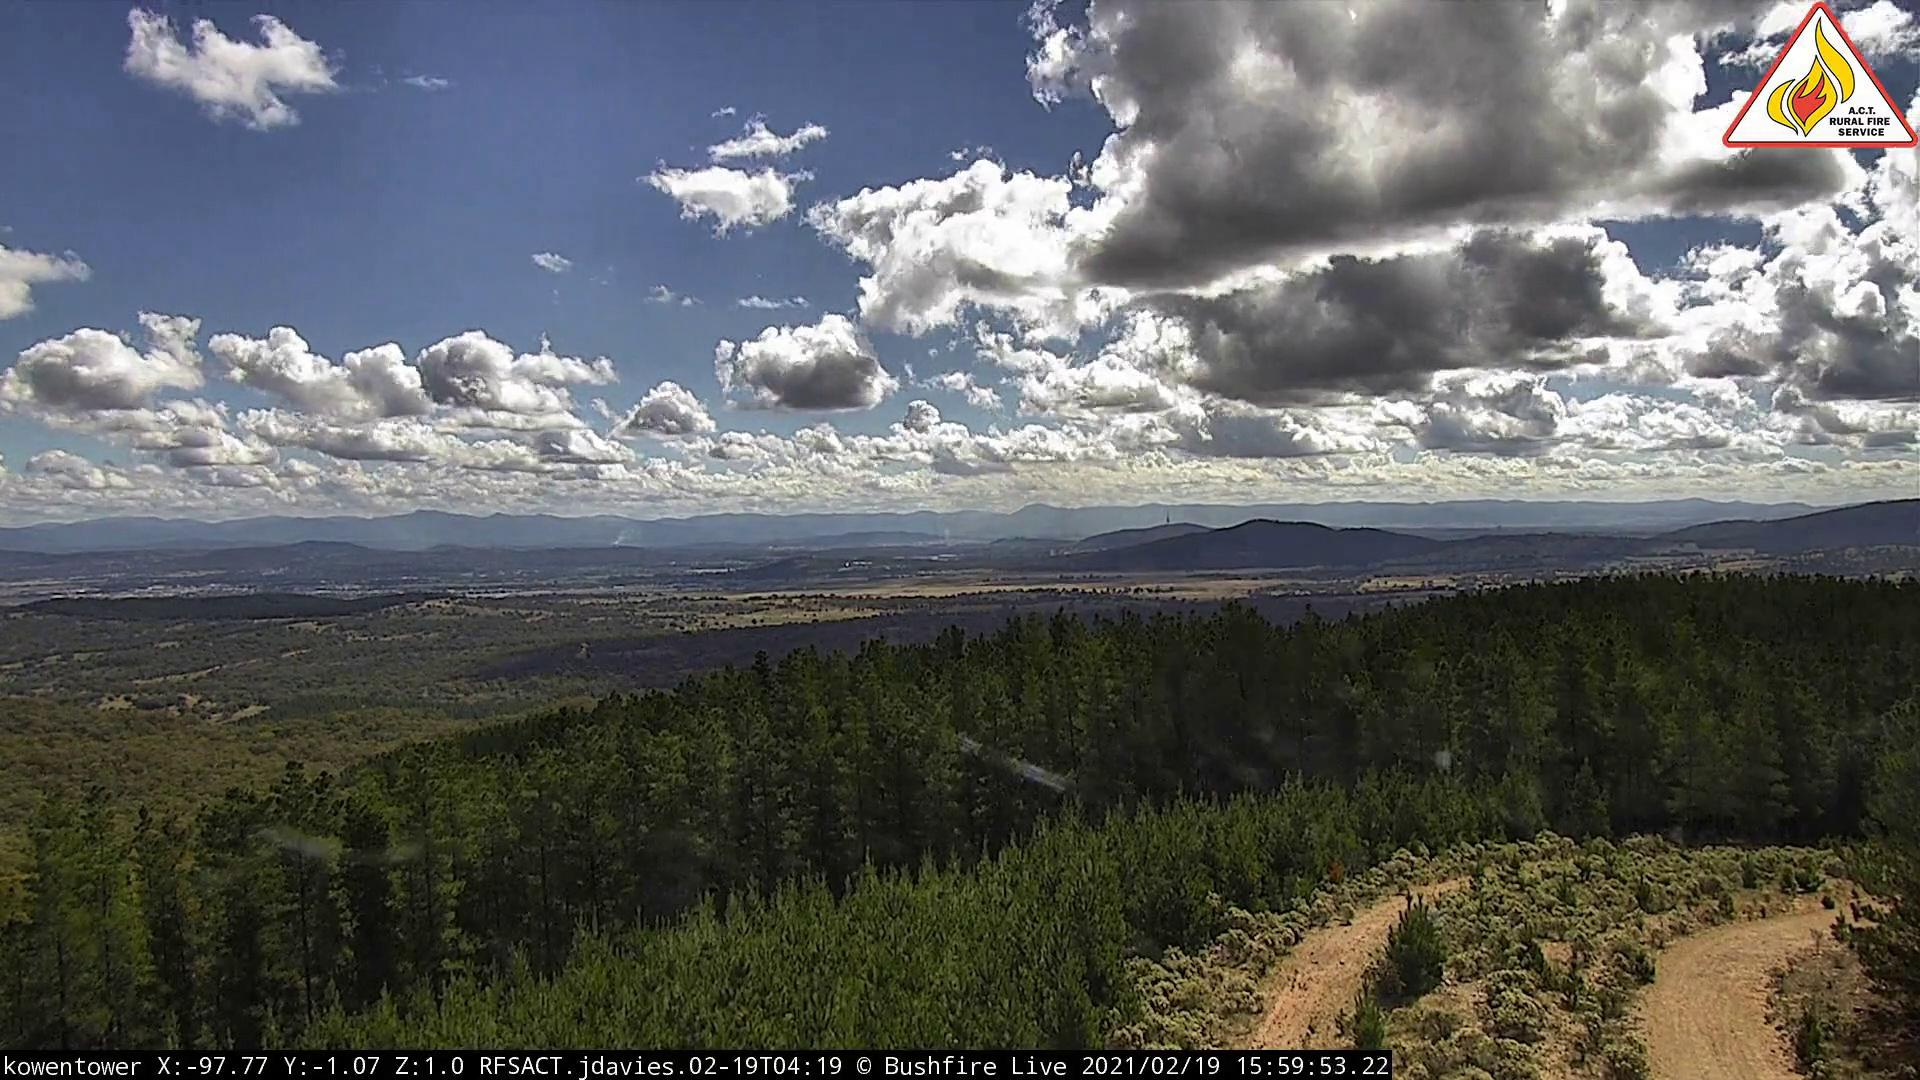Smoke: (928, 531, 992, 550), (607, 531, 640, 555)
